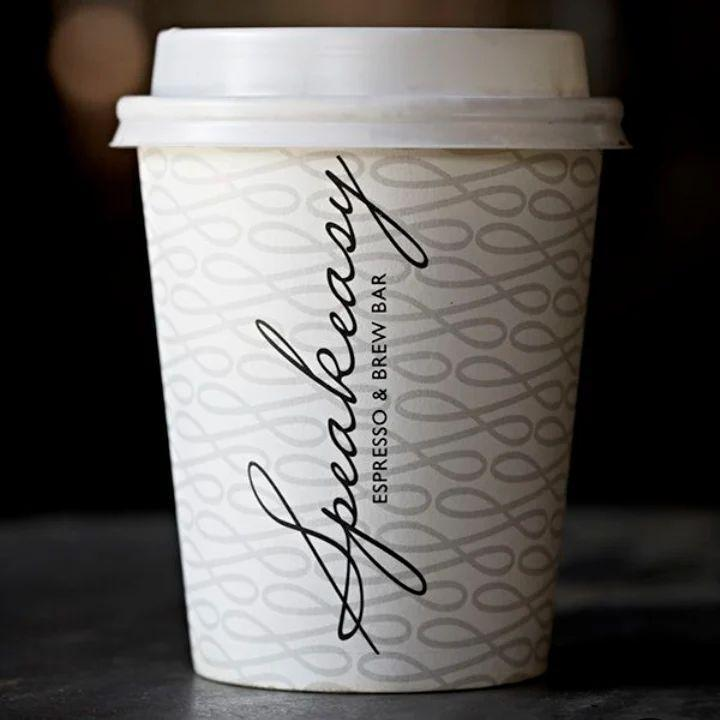cup-disposable: (109, 18, 630, 705)
